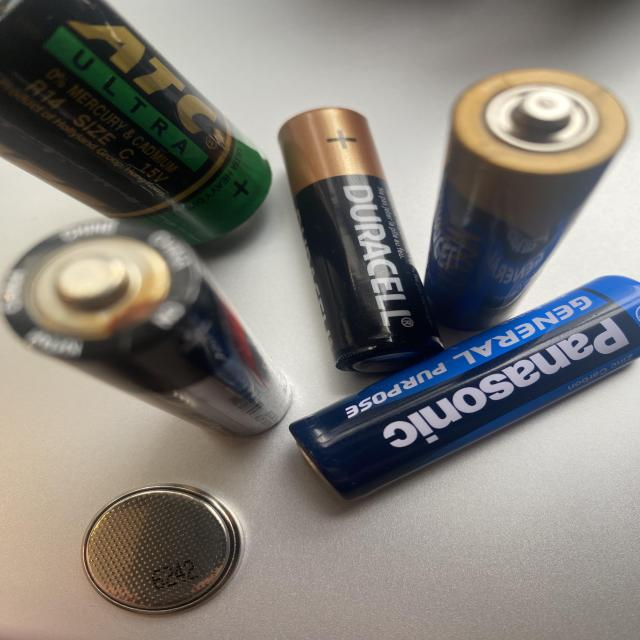COIN: (61, 468, 254, 627)
